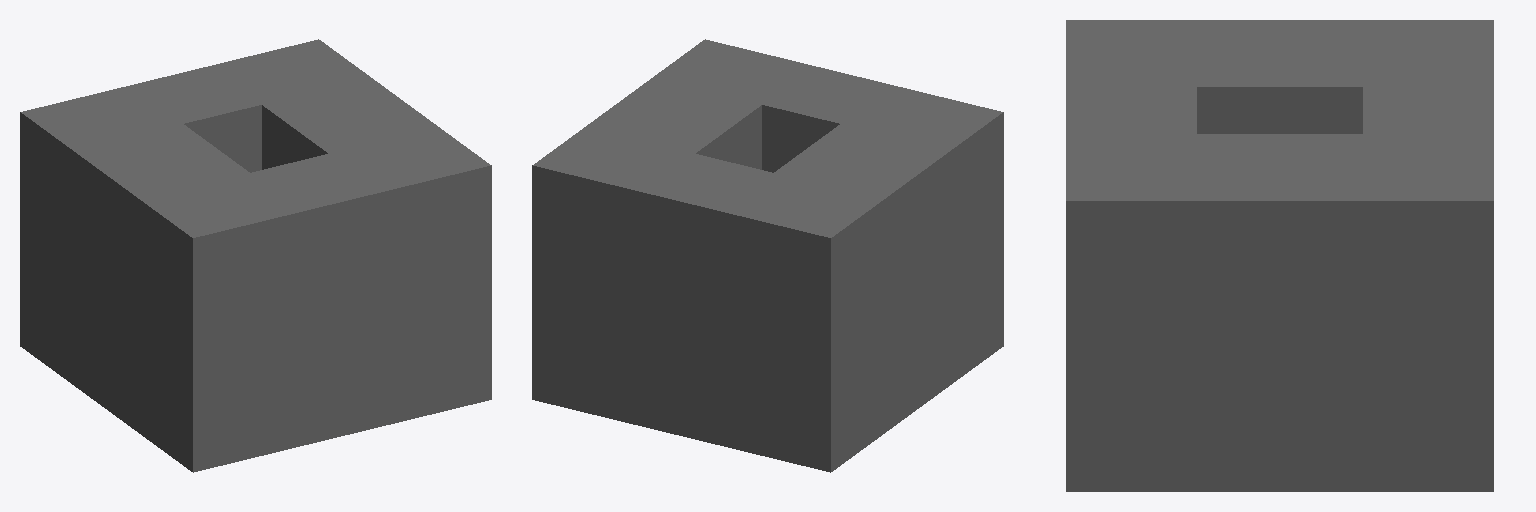
robot.urdf — hole_tol0p5mm_half:
<?xml version='1.0' encoding='utf-8'?>
<robot name="hole_tol0p5mm_half">
  <material name="hole_grey">
    <color rgba="0.4706 0.4706 0.4706 1.0" />
  </material>
  <link name="hole">
    <visual>
      <origin xyz="0 0 0.0025" rpy="0 0 0" />
      <geometry>
        <box size="0.04 0.04 0.005" />
      </geometry>
      <material name="hole_grey" />
    </visual>
    <visual>
      <origin xyz="0.012625 0 0.0175" rpy="0 0 0" />
      <geometry>
        <box size="0.01475 0.04 0.025" />
      </geometry>
      <material name="hole_grey" />
    </visual>
    <visual>
      <origin xyz="-0.012625 0 0.0175" rpy="0 0 0" />
      <geometry>
        <box size="0.01475 0.04 0.025" />
      </geometry>
      <material name="hole_grey" />
    </visual>
    <visual>
      <origin xyz="0 0.013875 0.0175" rpy="0 0 0" />
      <geometry>
        <box size="0.0105 0.01225 0.025" />
      </geometry>
      <material name="hole_grey" />
    </visual>
    <visual>
      <origin xyz="0 -0.013875 0.0175" rpy="0 0 0" />
      <geometry>
        <box size="0.0105 0.01225 0.025" />
      </geometry>
      <material name="hole_grey" />
    </visual>
    <collision>
      <origin xyz="0 0 0.0025" rpy="0 0 0" />
      <geometry>
        <box size="0.04 0.04 0.005" />
      </geometry>
    </collision>
    <collision>
      <origin xyz="0.012625 0 0.0175" rpy="0 0 0" />
      <geometry>
        <box size="0.01475 0.04 0.025" />
      </geometry>
    </collision>
    <collision>
      <origin xyz="-0.012625 0 0.0175" rpy="0 0 0" />
      <geometry>
        <box size="0.01475 0.04 0.025" />
      </geometry>
    </collision>
    <collision>
      <origin xyz="0 0.013875 0.0175" rpy="0 0 0" />
      <geometry>
        <box size="0.0105 0.01225 0.025" />
      </geometry>
    </collision>
    <collision>
      <origin xyz="0 -0.013875 0.0175" rpy="0 0 0" />
      <geometry>
        <box size="0.0105 0.01225 0.025" />
      </geometry>
    </collision>
    <inertial>
      <mass value="1.25" />
      <origin xyz="0 0 0.0275" rpy="0 0 0" />
      <inertia ixx="0.003125" ixy="0" ixz="0" iyy="0.003125" iyz="0" izz="0.003125" />
    </inertial>
  </link>
</robot>

--- What the picture shows (computed from the rendered views, not written in the file) ---
3 views of the same robot in one strip: view 1: azimuth 30°, elevation 25°; view 2: azimuth 150°, elevation 25°; view 3: azimuth 270°, elevation 25° (orthographic).
Robot: hole_tol0p5mm_half — 1 links, 0 joints (none); root link hole; default pose: every joint at zero.
Links seen in each view (by area): view 1: hole; view 2: hole; view 3: hole.
Link boxes in pixels (x1,y1,x2,y2): hole: (20,39,491,472); hole: (532,39,1003,472); hole: (1066,20,1493,491).
Size in the robot's own frame: 0.04 by 0.04 by 0.03 metres.
Geometry: primitives only (box / cylinder / sphere), no mesh files.
